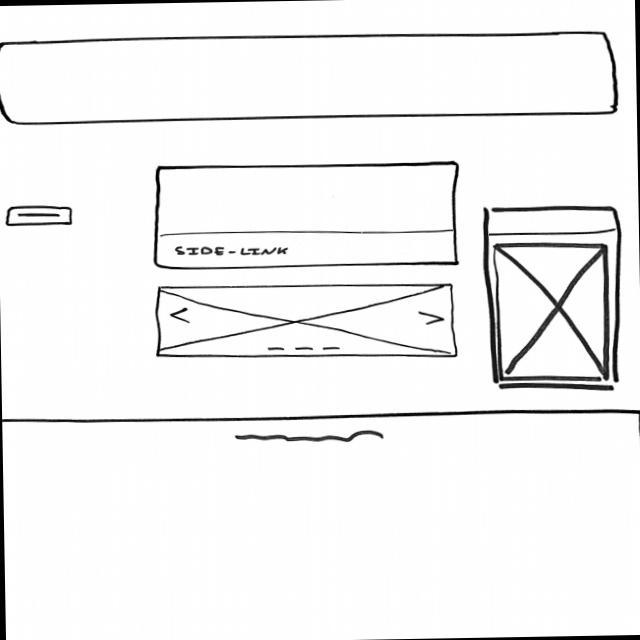container: (1, 29, 618, 125), (150, 161, 460, 272), (480, 204, 626, 394)
icon-button: (4, 205, 73, 228)
image: (155, 279, 459, 364), (494, 241, 612, 383)
label: (172, 243, 291, 259)
text: (234, 427, 387, 447)
